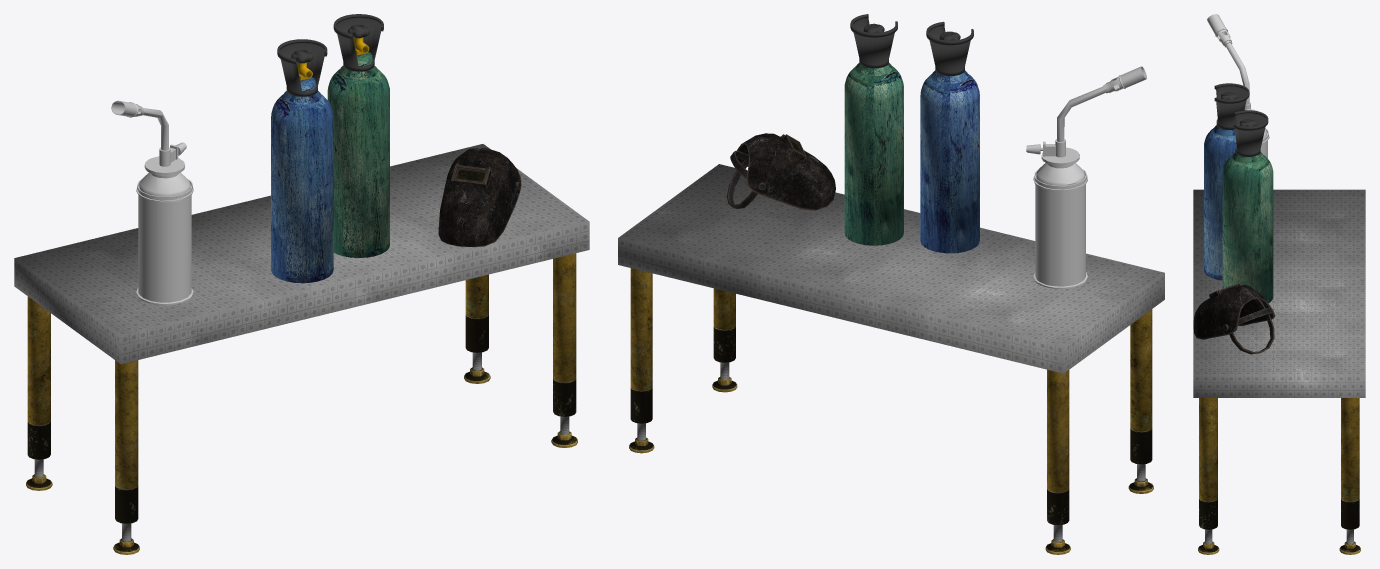
File: WeldTable.fbx
3 views of the same model, side by side, from view 1: azimuth 30°, elevation 25°; view 2: azimuth 150°, elevation 25°; view 3: azimuth 270°, elevation 25° (orthographic). The views are drawn at different scales.
Visible parts, largest first — view 1: WeldTable, GasCylinderBlue, GasCylinderGreen, Welder, Mask; view 2: WeldTable, GasCylinderBlue, GasCylinderGreen, Welder, Mask; view 3: WeldTable, GasCylinderGreen, GasCylinderBlue, Mask, Welder.
Boxes of the visible parts, <box> form: WeldTable: <box>14,144,589,554</box>; GasCylinderBlue: <box>271,39,333,283</box>; GasCylinderGreen: <box>327,14,389,257</box>; Welder: <box>111,100,193,305</box>; Mask: <box>438,148,521,246</box>; WeldTable: <box>618,164,1164,554</box>; GasCylinderBlue: <box>920,21,979,253</box>; GasCylinderGreen: <box>844,14,903,245</box>; Welder: <box>1026,66,1146,288</box>; Mask: <box>727,133,835,210</box>; WeldTable: <box>1193,189,1365,554</box>; GasCylinderGreen: <box>1222,110,1273,303</box>; GasCylinderBlue: <box>1204,83,1249,280</box>; Mask: <box>1193,283,1275,354</box>; Welder: <box>1207,14,1269,158</box>.
Bounding box in the file's own units: 200 × 182 × 78.59.
